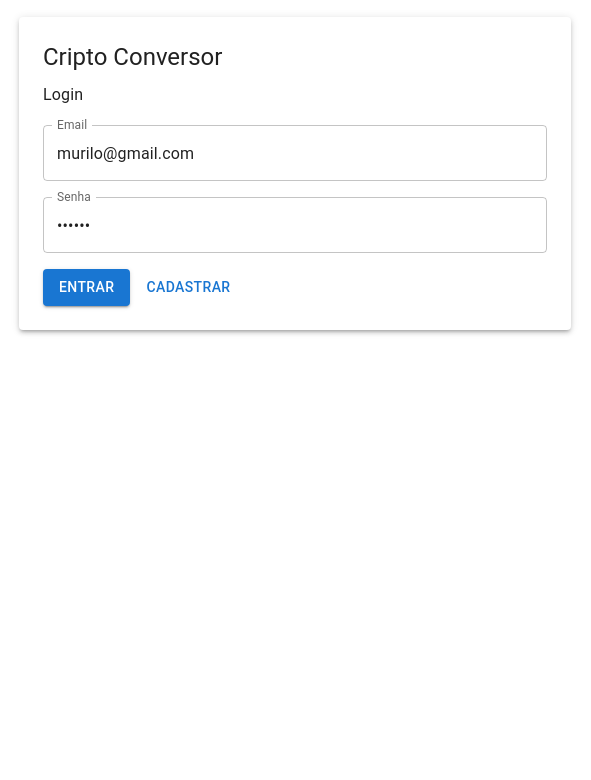
Test case: App - Fluxo de Login › realiza conversão após login e exibe resultados
The width and height of the screenshot is (591, 780).
What coordinates should you click on to do the following:
click the button "Entrar"
I would click on:
 (87, 288)
Its box is [43, 269, 130, 306].
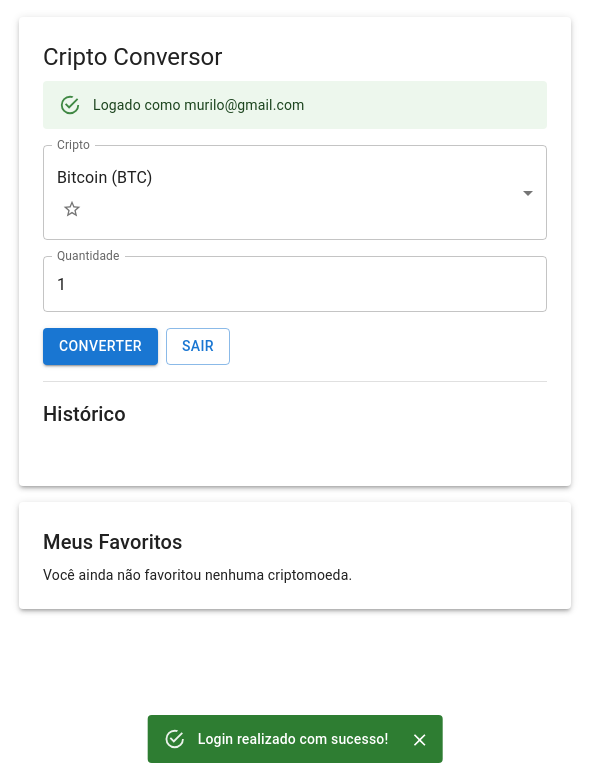
Now the text "Logado como murilo@gmail.com" is shown, box [93, 97, 305, 113]
What coordinates should you click on to do the following:
click the button "Converter"
I would click on:
 (100, 347)
Its box is [43, 328, 158, 365].
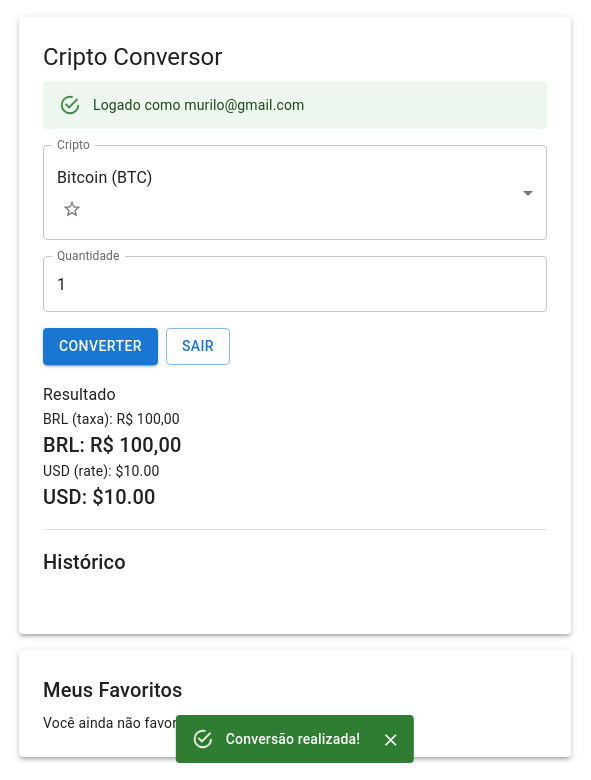
Now the heading "BRL: R$ 100,00" is shown, box [43, 433, 181, 457]
Now the heading "USD: $10.00" is shown, box [43, 485, 156, 509]
